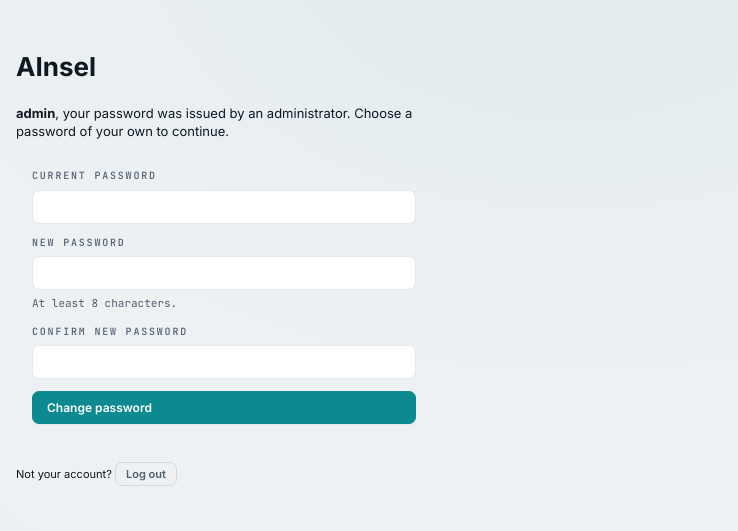
ForcedPasswordChange › stays put when the hub rejects the new password
Step 1. Type "bootstrap-pass" into the password field labelled "Current password" → (224, 207), box [32,190,416,224]
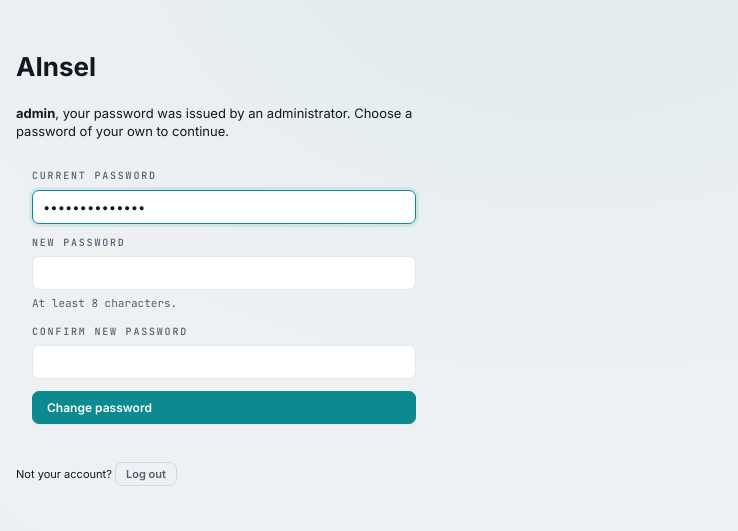
Step 2. Type "short" into the password field labelled "New password" → (224, 273), box [32,256,416,290]
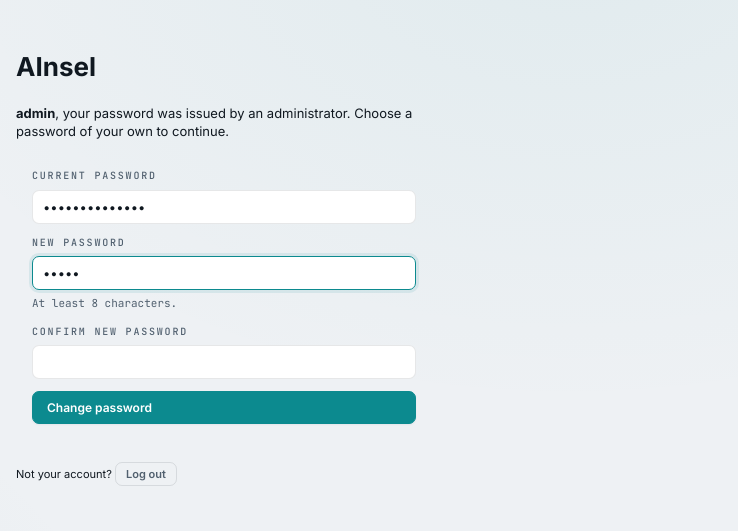
Step 3. Type "short" into the password field labelled "Confirm new password" → (224, 362), box [32,345,416,379]
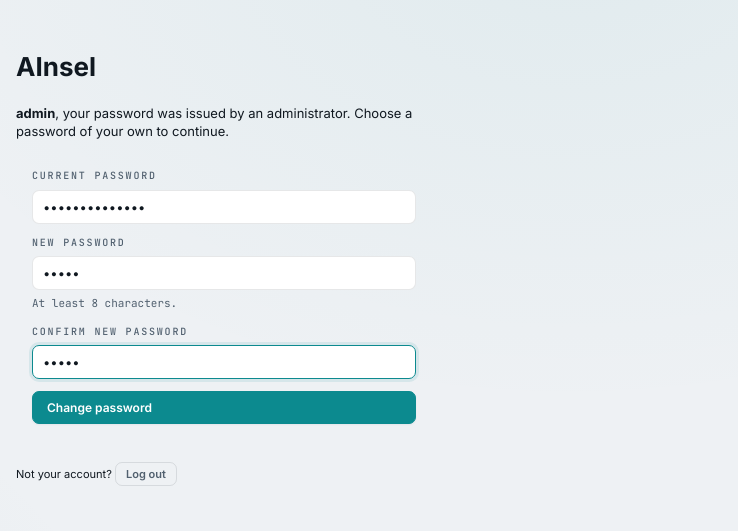
Step 4. Click the button "Change password" → (99, 408), box [32,391,416,424]
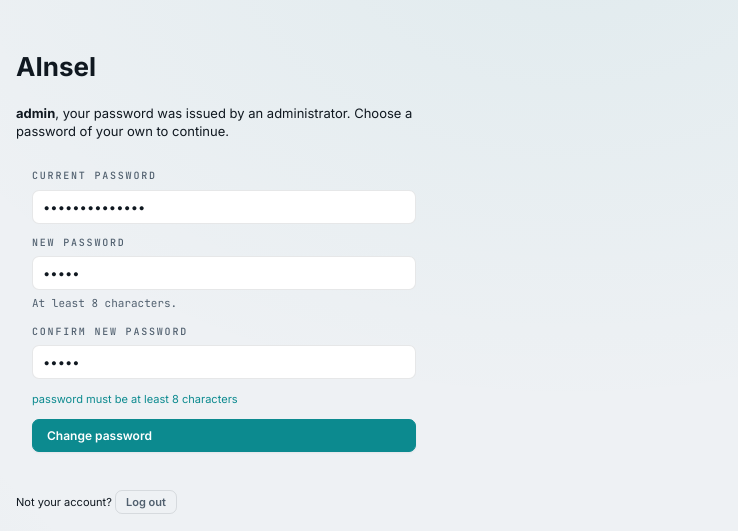
Expected: the message reads "password must be at least 8 characters", [32,392,238,406]
